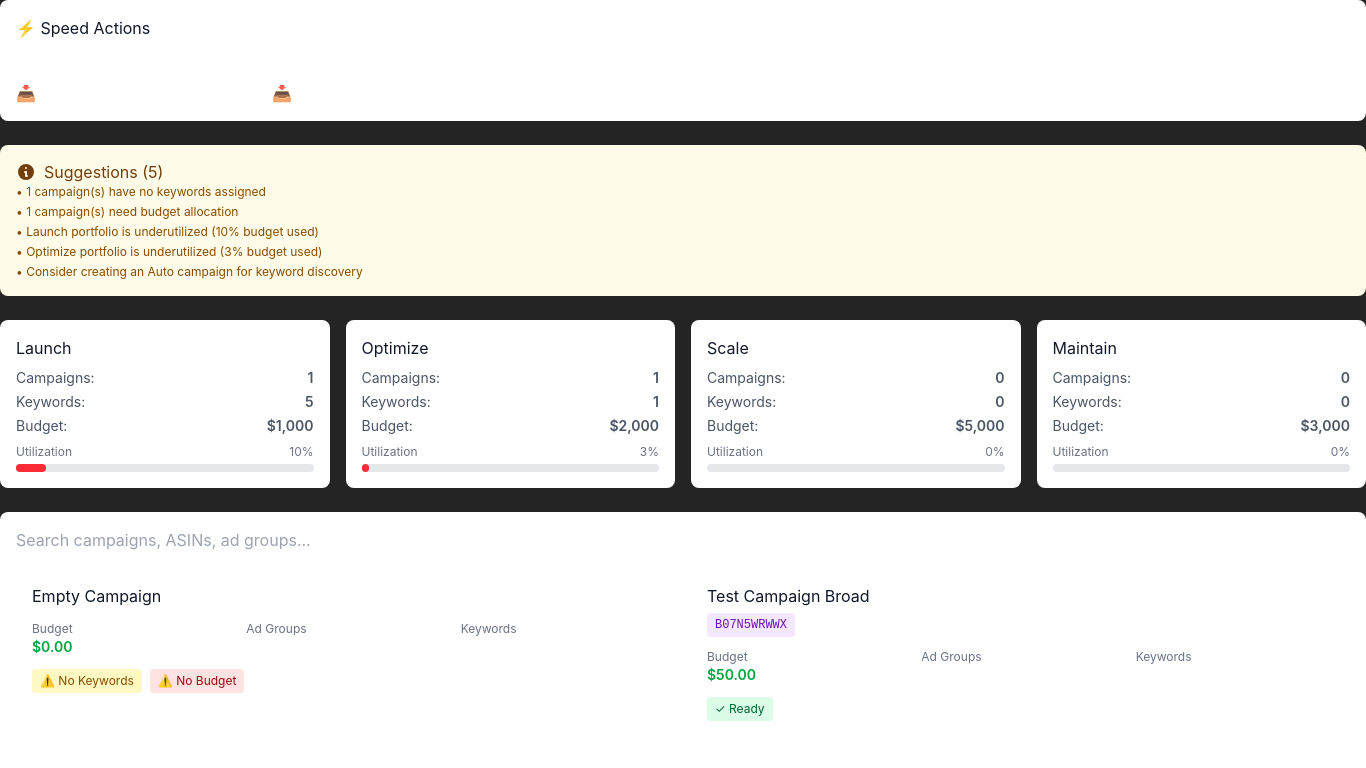
Test: BrandTabCampaigns › should filter campaigns by search query
The image size is (1366, 768).
Note: Search for "Exact"
Type "Exact" into the search field with placeholder "Search campaigns, ASINs, ad groups..." at coordinates (637, 540), box [16,528,1258,552]
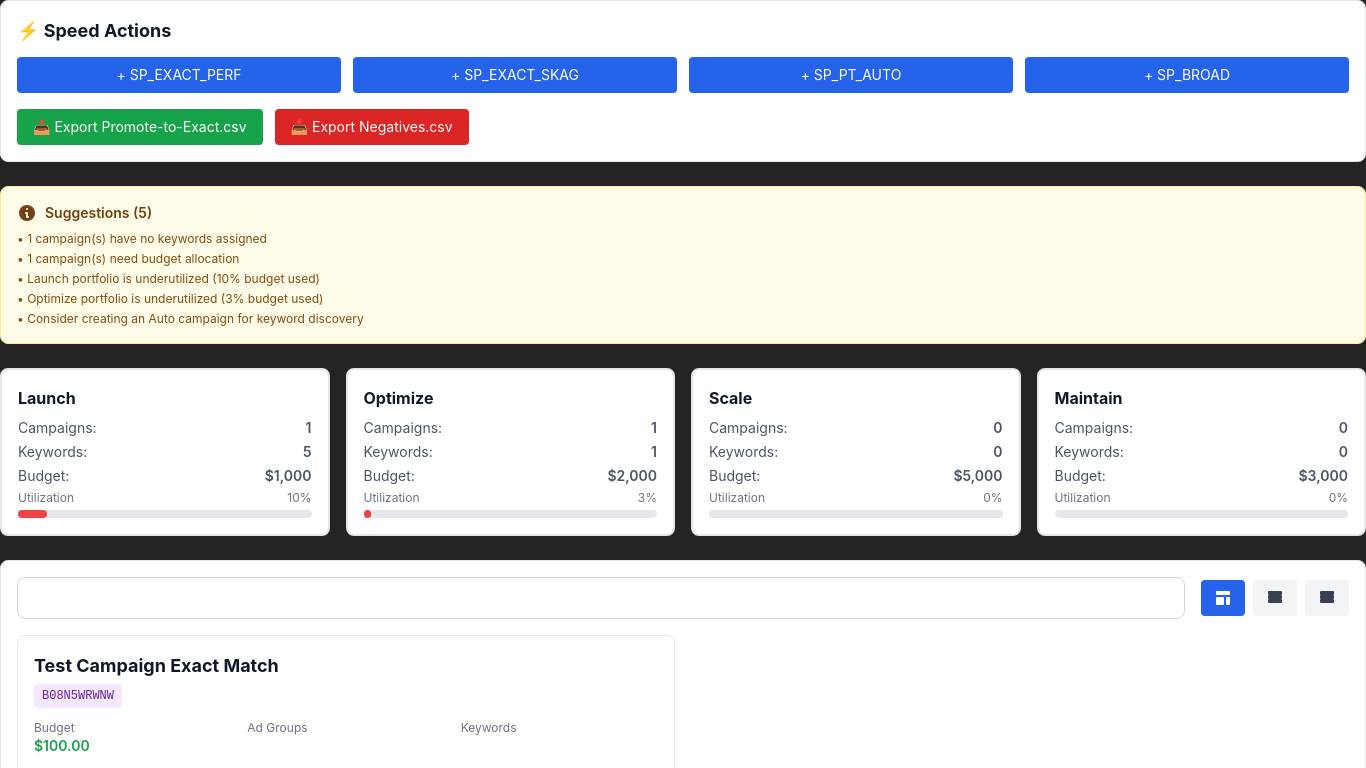
Expected: the heading "Test Campaign Exact Match" is shown, [34,655,279,676]
Expected: the heading "Test Campaign Broad" is gone
